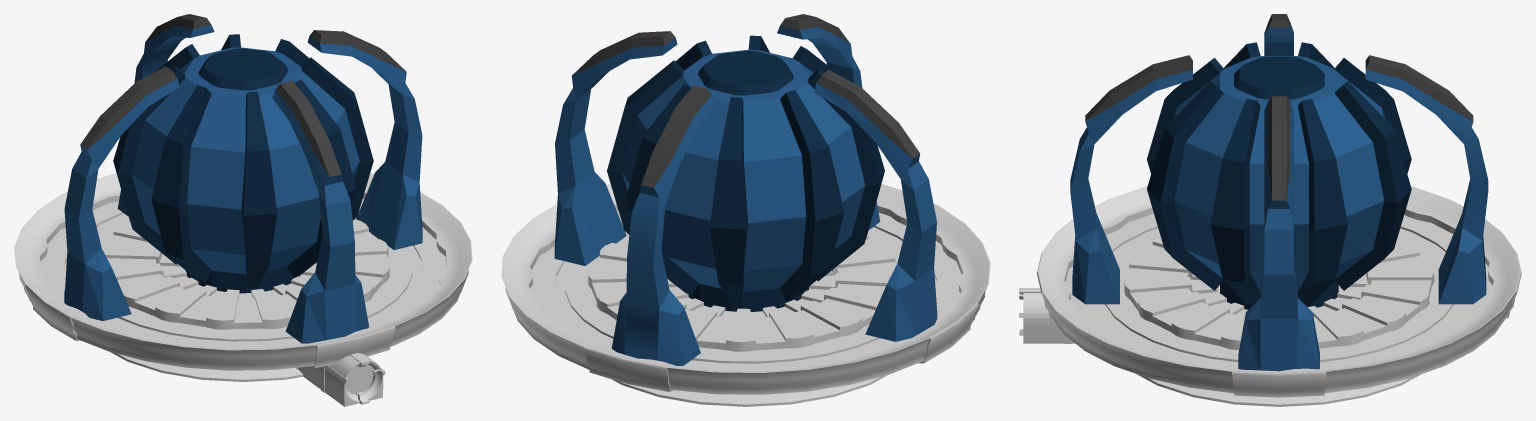
The model's file is Generator.FBX.
3 renders of one model, left to right at view 1: azimuth 30°, elevation 25°; view 2: azimuth 150°, elevation 25°; view 3: azimuth 270°, elevation 25°, orthographic. The views are drawn at different scales.
Parts seen in each view (by area): view 1: Generator_Ball, Generator_Base, Generator_Fins, PowerConnector; view 2: Generator_Ball, Generator_Base, Generator_Fins; view 3: Generator_Base, Generator_Ball, Generator_Fins, PowerConnector.
Boxes of the visible parts, left/top/right/bottom form: Generator_Ball: left=113, top=34, right=373, bottom=293; Generator_Base: left=14, top=173, right=472, bottom=381; Generator_Fins: left=64, top=14, right=422, bottom=343; PowerConnector: left=296, top=353, right=385, bottom=406; Generator_Ball: left=607, top=35, right=884, bottom=311; Generator_Base: left=501, top=184, right=990, bottom=406; Generator_Fins: left=554, top=14, right=937, bottom=365; Generator_Base: left=1036, top=186, right=1521, bottom=406; Generator_Ball: left=1147, top=42, right=1411, bottom=309; Generator_Fins: left=1070, top=14, right=1488, bottom=371; PowerConnector: left=1019, top=288, right=1074, bottom=343.
Bounding box in the file's own units: 408 × 257 × 423.
